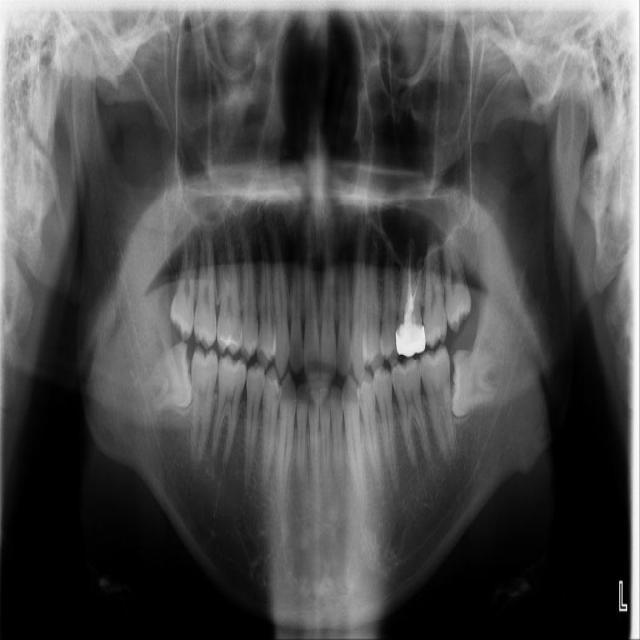3M ESPE Implant: (167, 231, 203, 341)
52: (393, 312, 428, 360)
73: (398, 237, 425, 313), (550, 592, 560, 598)
BioHorizons Implant: (416, 225, 449, 347)
BioLife Implant: (442, 229, 474, 334)
Biomet 3i Implant: (449, 344, 500, 420)
Blue Sky Bio Implant: (417, 342, 462, 464)
Caries: (193, 227, 222, 348)
Implant: (184, 346, 220, 465)
Keystone Dental Implant: (141, 338, 199, 413)
